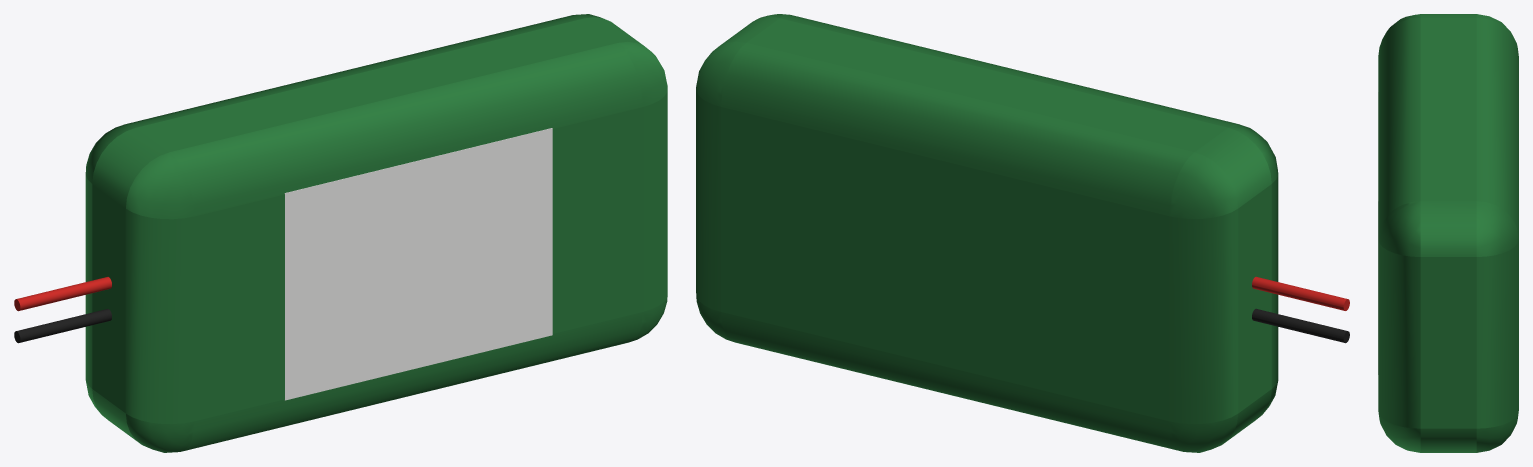
The model's file is molicel-m35a-2s-bb.glb.
3 renders of one model, left to right at view 1: azimuth 30°, elevation 25°; view 2: azimuth 150°, elevation 25°; view 3: azimuth 270°, elevation 25°, orthographic. The views are drawn at different scales.
Visible parts, largest first — view 1: body, label, lead_red, lead_black; view 2: body, lead_black, lead_red; view 3: body, label.
Part boxes in pixels (x1,y1,x2,y2): body: [85, 14, 667, 452]; label: [284, 128, 552, 400]; lead_red: [14, 277, 111, 311]; lead_black: [14, 309, 111, 343]; body: [696, 14, 1278, 452]; lead_black: [1252, 308, 1349, 343]; lead_red: [1252, 276, 1349, 310]; body: [1378, 14, 1518, 452]; label: [1378, 92, 1378, 374].
Size of the model in its own units: 82 by 37 by 19.03.
